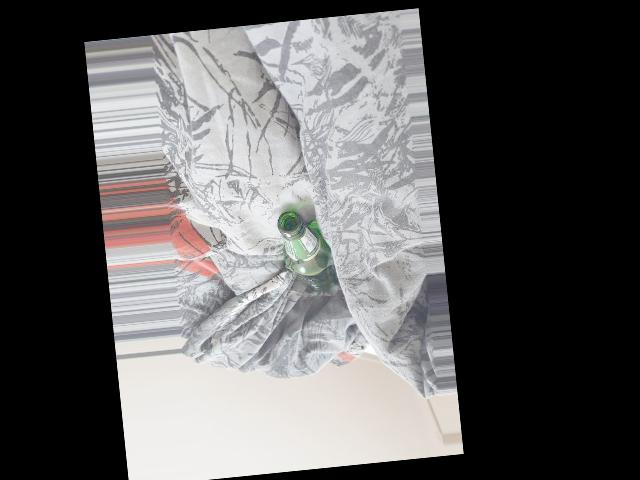beer: (278, 207, 334, 293)
